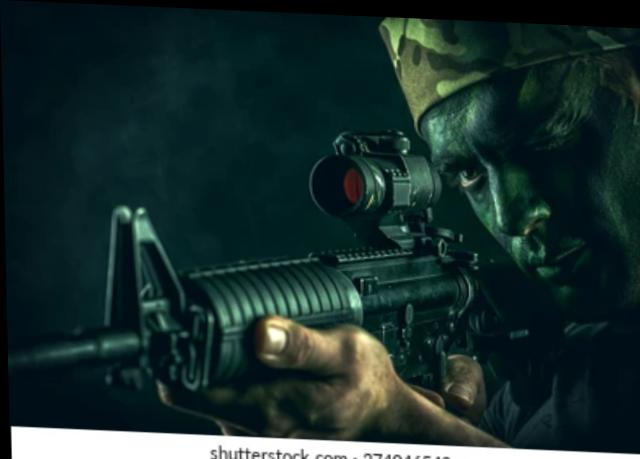other: (299, 12, 640, 437)
